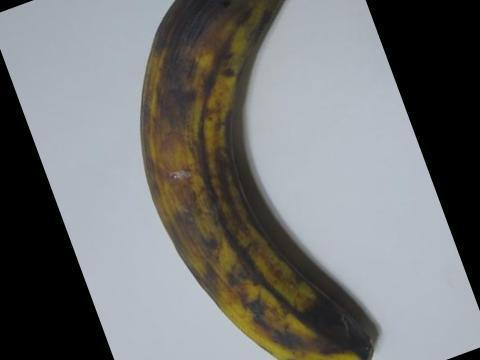overripe: (137, 0, 388, 359)
